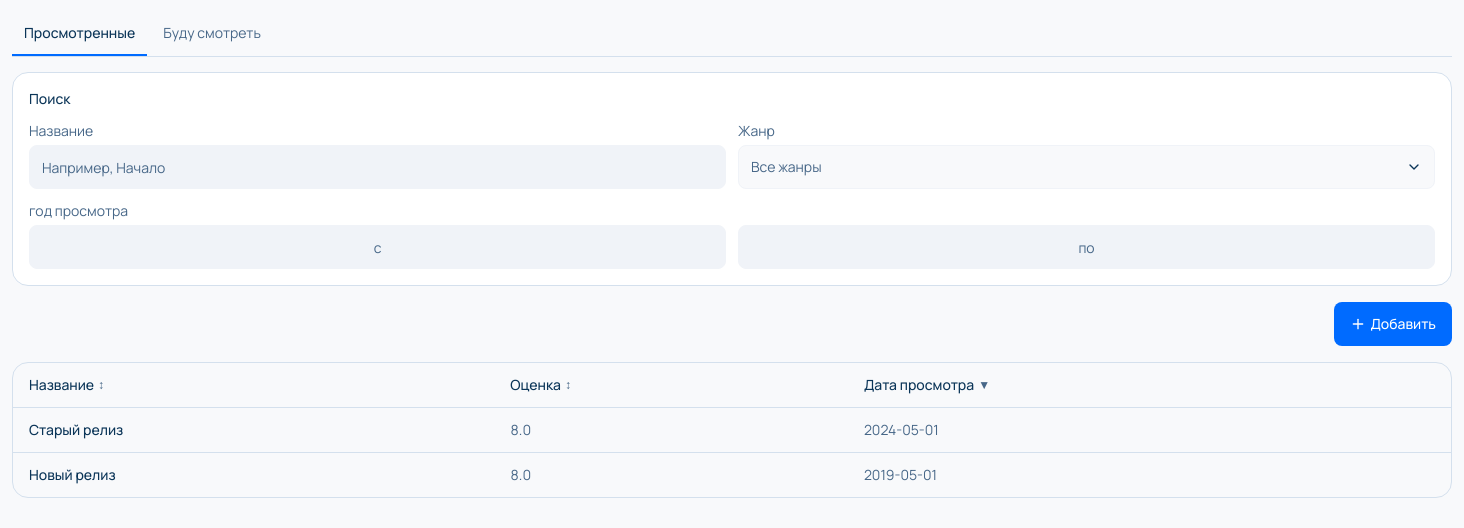
Test case: My Films and records › filters the year by the watch date and labels the field "год просмотра"
Expected: the text "год просмотра" is shown, [29, 201, 128, 220]
Type "2024" into the field named "Год (с)" at (378, 247), box [29, 225, 726, 269]
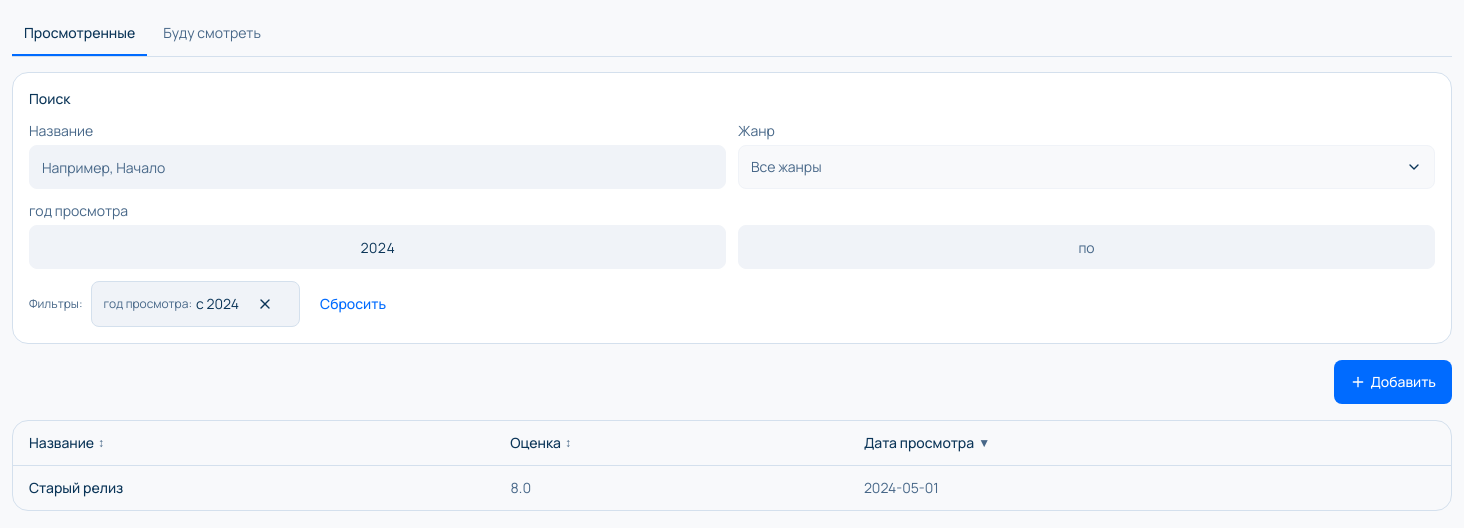
Expected: the button "Старый релиз" is shown, [29, 478, 123, 498]
Expected: the button "Новый релиз" is gone
